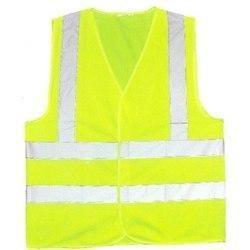vest: (25, 8, 229, 246)
